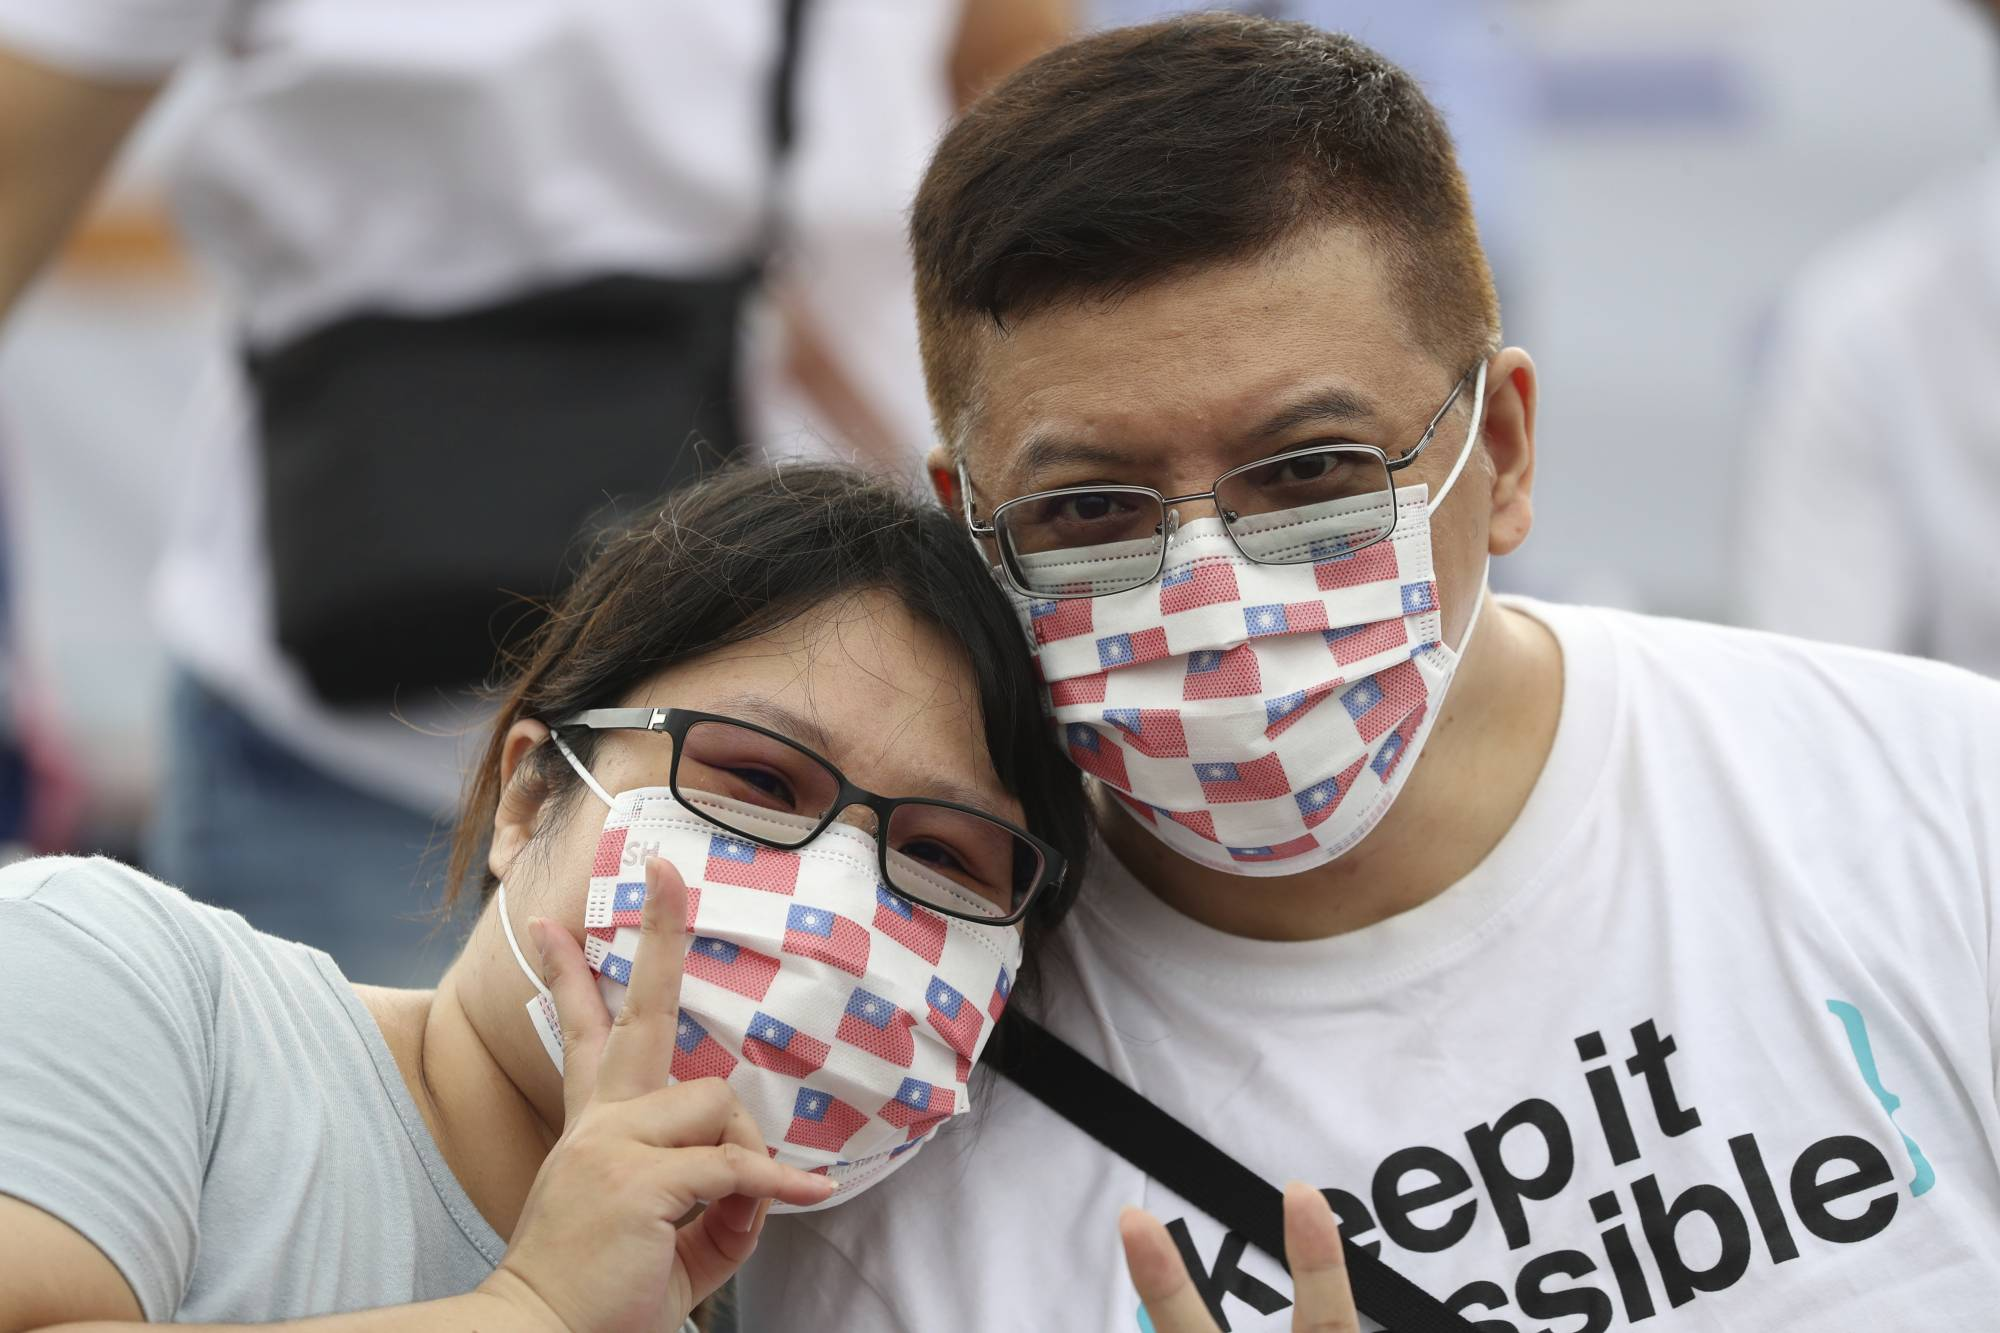with_mask: (1003, 298, 1431, 854), (604, 688, 985, 1188)
